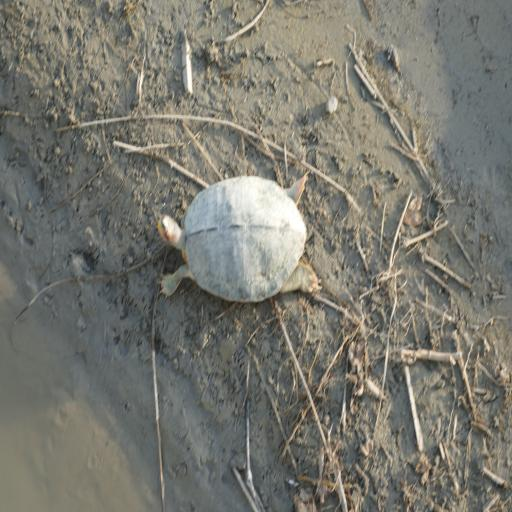turtle: (146, 160, 322, 314)
